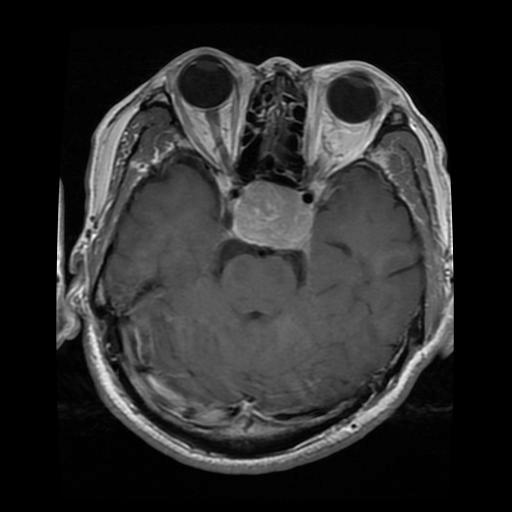Tumour-Pituitary: (214, 193, 327, 253)
